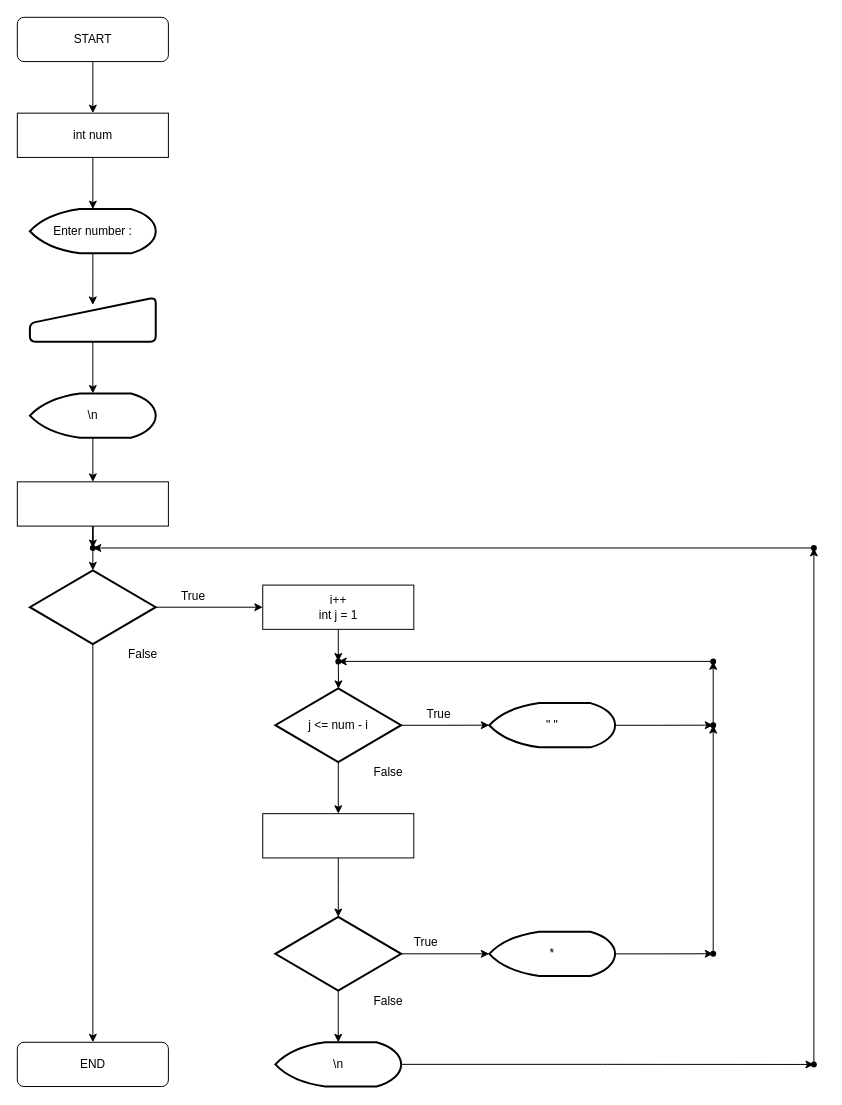
Image size: 842x1105. Some labels were removed from this diagram. Here are the shapes that lost their labels. From the top down, the box of each, then its label:
(28, 296, 156, 342): num
(16, 481, 168, 526): int i = 1
(28, 569, 156, 645): i <= num
(262, 813, 414, 858): int k = 1
(274, 915, 402, 991): k <= i
